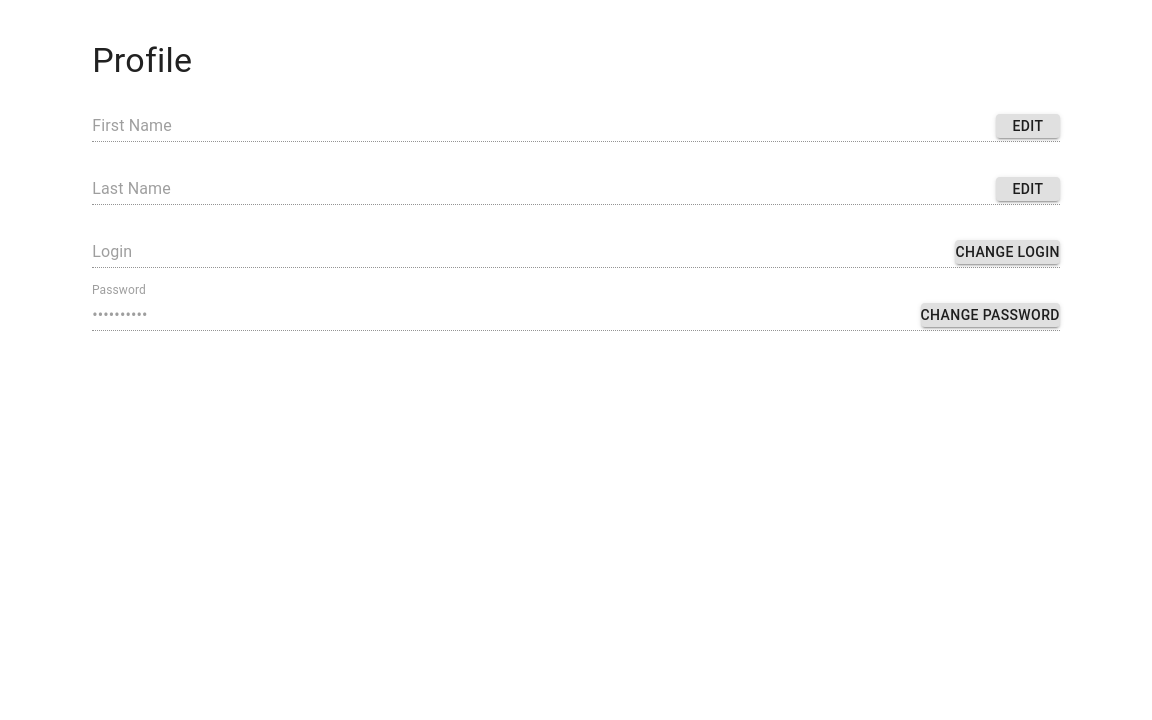
Test: Testing render › should open change email modal
This screenshot has width=1152, height=720.
Click the button "Change Login".
click(1008, 252)  # box [955,240,1060,264]
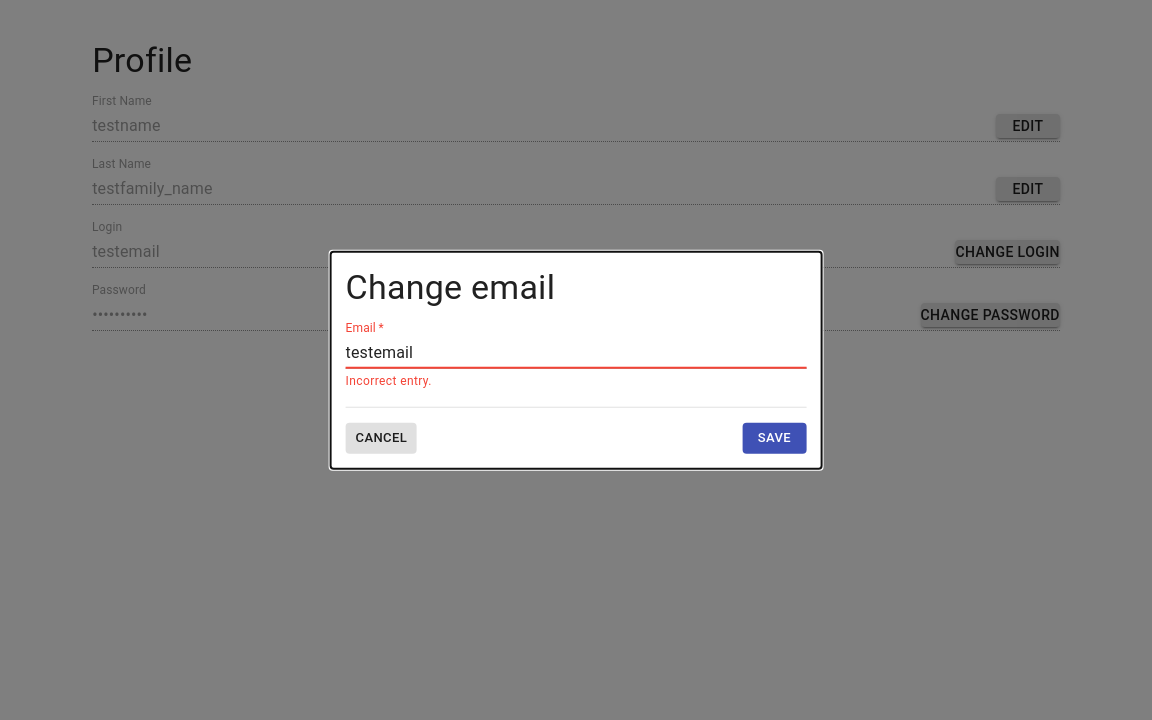
expect the heading "Change email" is shown: met, box [346,267,555,307]
